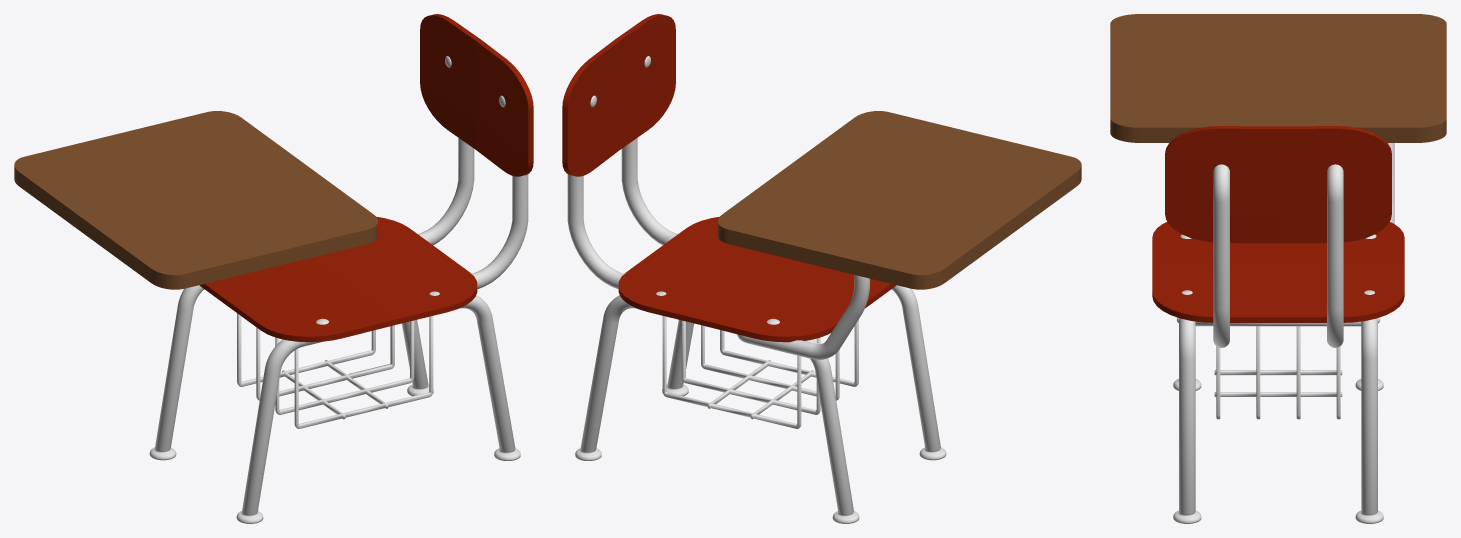
Rendered from Desk.fbx.
3 renders of one model, left to right at view 1: azimuth 30°, elevation 25°; view 2: azimuth 150°, elevation 25°; view 3: azimuth 270°, elevation 25°, orthographic. The views are drawn at different scales.
Visible parts, largest first — view 1: Cube, Plane, Plane.001, Cylinder.001, Plane.004, Cylinder; view 2: Cube, Plane, Plane.001, Cylinder.001, Plane.004, Cylinder, Cylinder.002; view 3: Cube, Plane.001, Plane, Cylinder.001, Cylinder, Plane.004.
Part boxes in pixels (left/top/right/bottom): Cube: left=14, top=111, right=377, bottom=289; Plane: left=199, top=217, right=477, bottom=342; Plane.001: left=420, top=14, right=533, bottom=176; Cylinder.001: left=149, top=285, right=520, bottom=523; Plane.004: left=237, top=313, right=433, bottom=428; Cylinder: left=418, top=56, right=528, bottom=306; Cube: left=718, top=111, right=1081, bottom=289; Plane: left=618, top=217, right=896, bottom=342; Plane.001: left=562, top=14, right=675, bottom=176; Cylinder.001: left=575, top=285, right=946, bottom=523; Plane.004: left=662, top=316, right=858, bottom=428; Cylinder: left=567, top=56, right=677, bottom=306; Cylinder.002: left=737, top=275, right=870, bottom=359; Cube: left=1110, top=14, right=1446, bottom=142; Plane.001: left=1165, top=126, right=1391, bottom=243; Plane: left=1152, top=222, right=1404, bottom=322; Cylinder.001: left=1173, top=234, right=1383, bottom=523; Cylinder: left=1176, top=164, right=1380, bottom=347; Plane.004: left=1214, top=326, right=1342, bottom=419.
Bounding box in the file's own units: 299 × 261 × 200.
